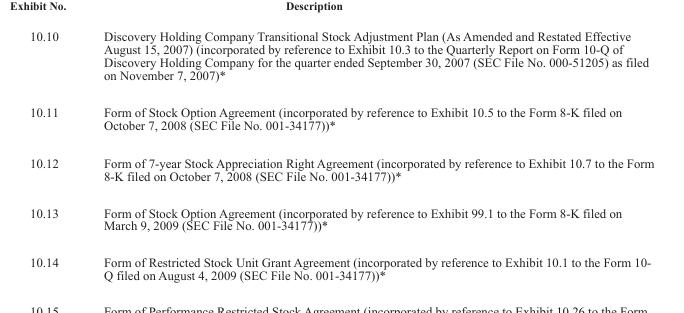table: (29, 29, 653, 282)
table column: (80, 29, 653, 282), (29, 29, 80, 282)
table row: (29, 29, 653, 92), (29, 92, 653, 143), (29, 143, 653, 193), (29, 193, 653, 243), (29, 243, 653, 282)
